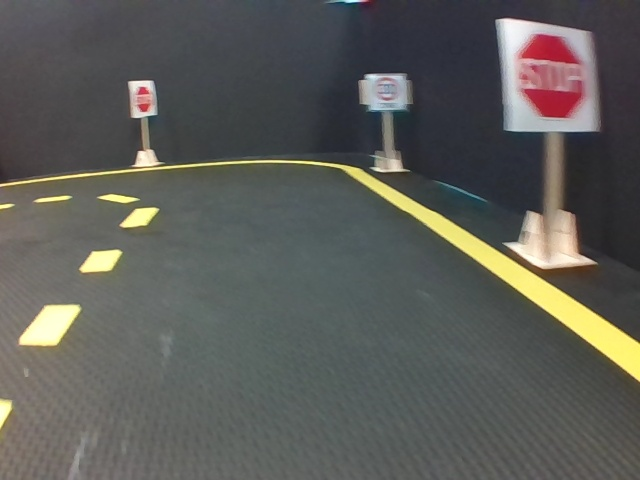30: (367, 75, 404, 108)
stop: (501, 20, 597, 133), (130, 81, 154, 116)
